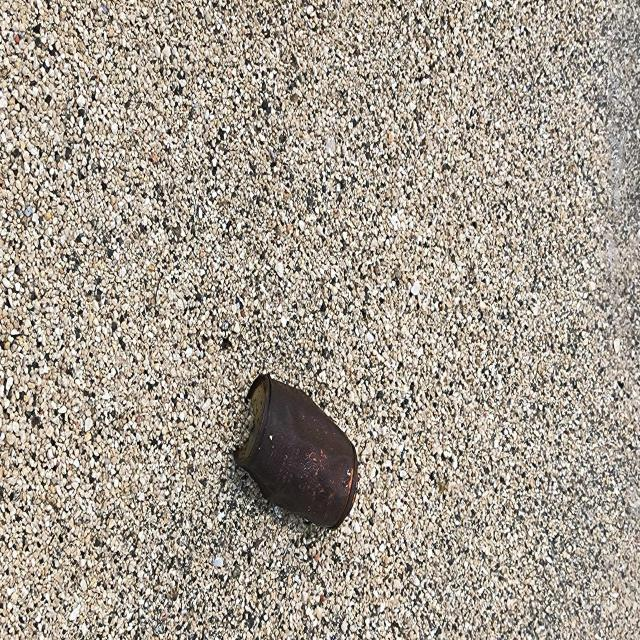metal_waste: (234, 370, 360, 533)
